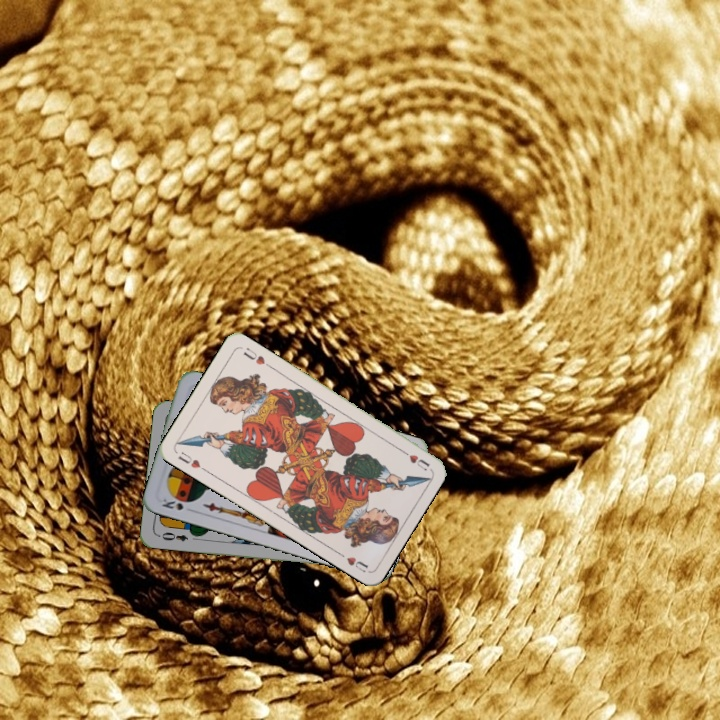EO: (154, 528, 191, 544)
HU: (396, 445, 432, 473), (174, 447, 209, 474)
SK: (158, 493, 197, 515)
